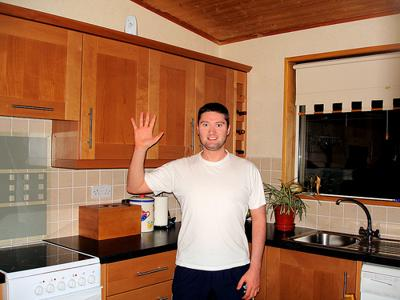person: (129, 103, 268, 300)
